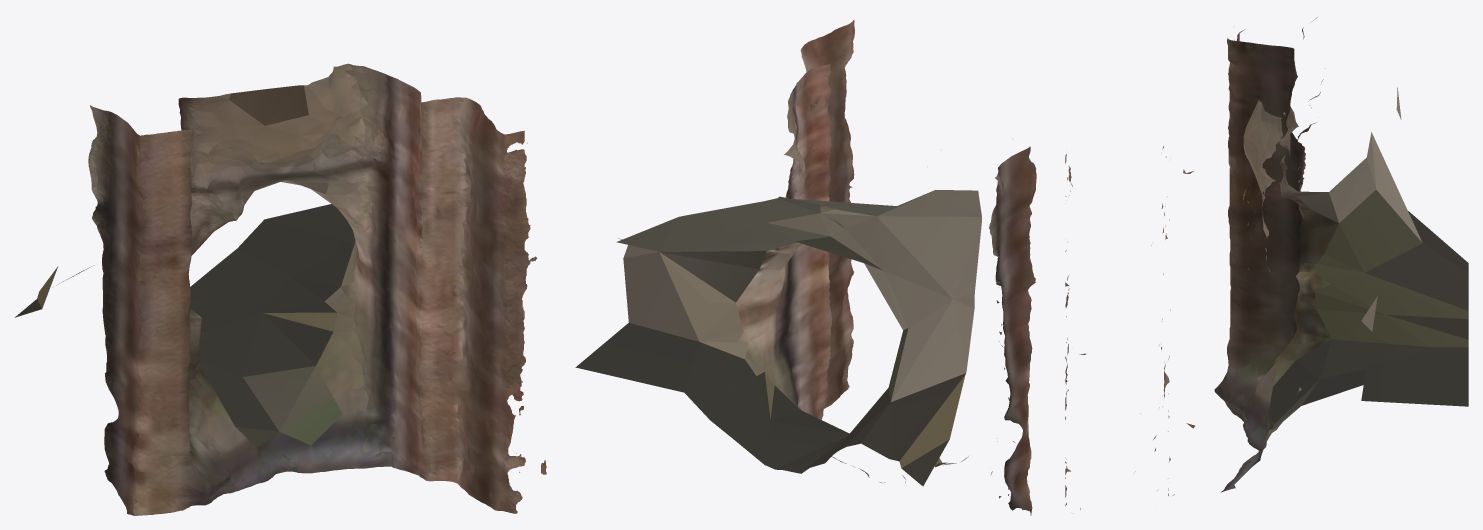
3 views of the same model, side by side, from view 1: azimuth 30°, elevation 25°; view 2: azimuth 150°, elevation 25°; view 3: azimuth 270°, elevation 25° (orthographic). The views are drawn at different scales.
Size of the model in its own units: 0.983 by 0.983 by 0.983.
Materials: 1 (1 with a texture image).
